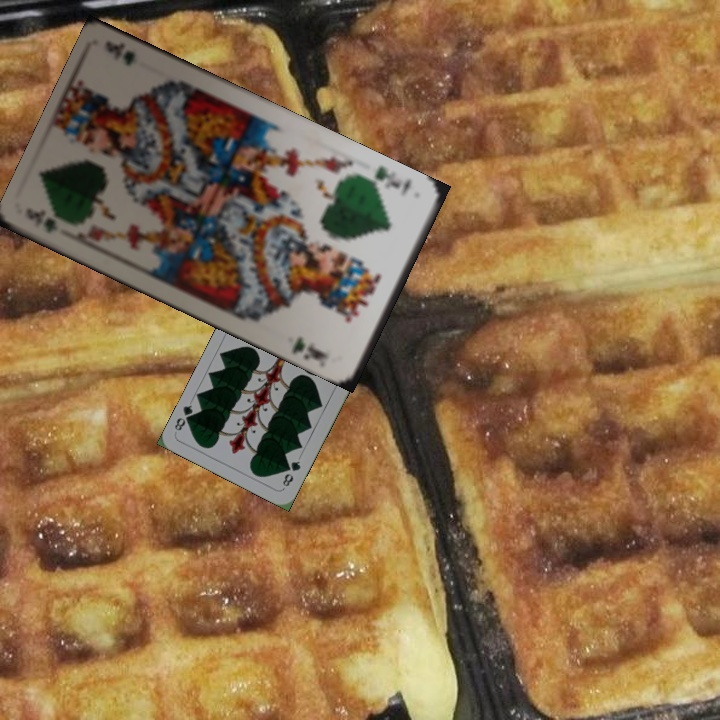G8: (278, 457, 303, 489)
GK: (360, 162, 414, 199), (24, 205, 61, 235)
